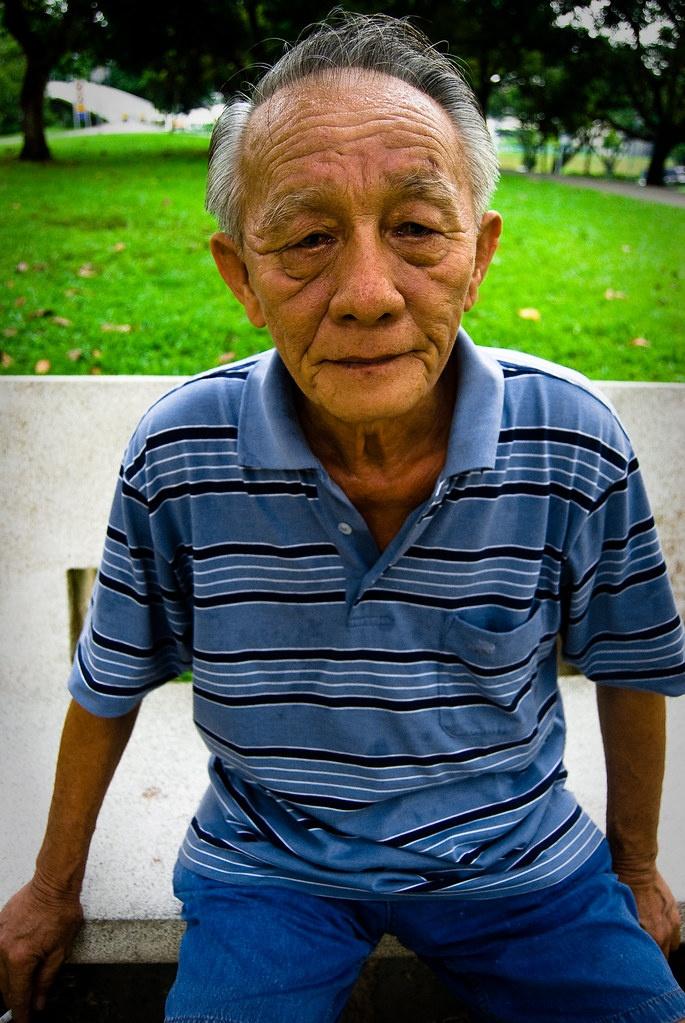without_mask: (228, 68, 480, 403)
